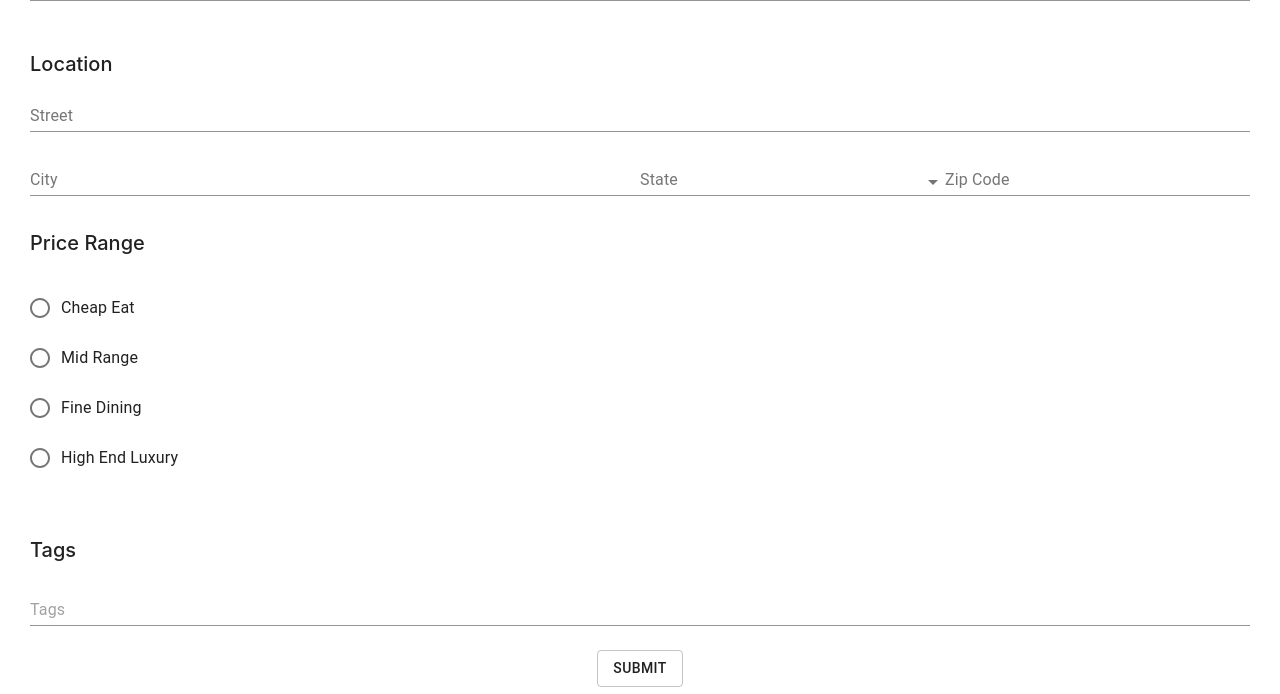
On Submit Validation Occurs
The width and height of the screenshot is (1280, 694).
(page scrolled)
Click the button with test id "submit-button" at (640, 668), box top-left (597, 650), bottom-right (683, 686)
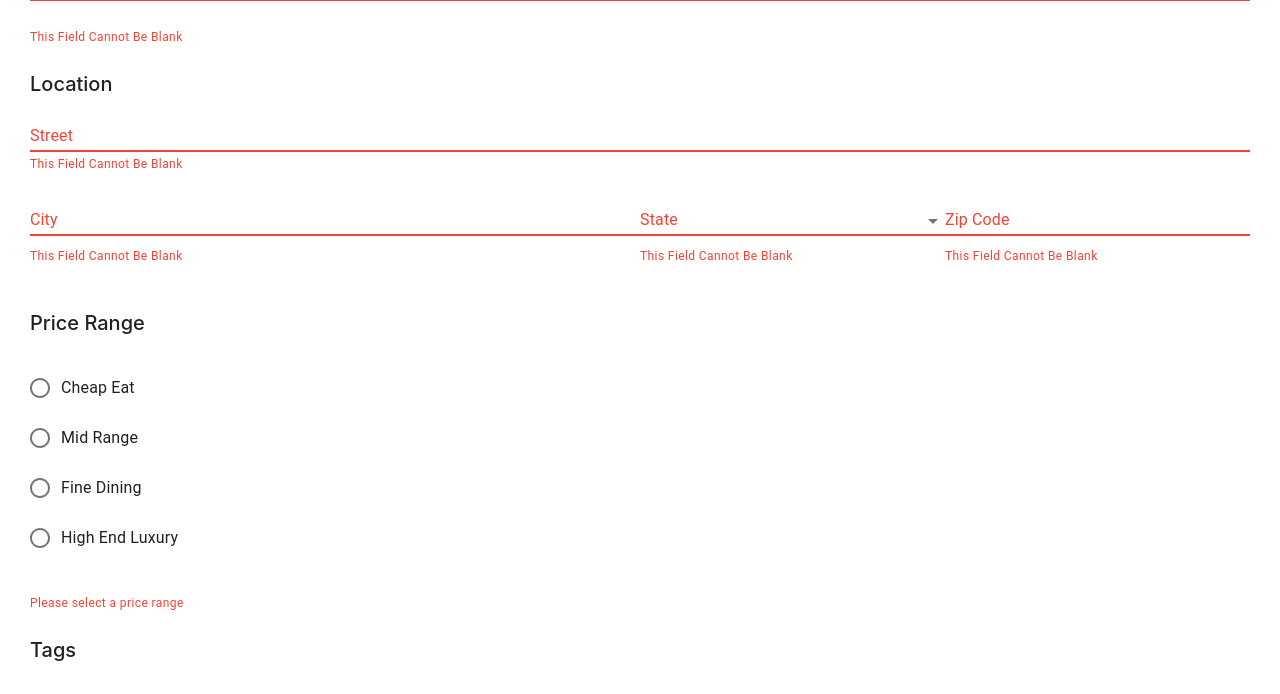
Expected: the text with test id "name-error-text" reads "This Field Cannot Be Blank", top-left (30, 30), bottom-right (183, 44)
Expected: the text with test id "street-error-text" reads "This Field Cannot Be Blank", top-left (30, 157), bottom-right (183, 171)
Expected: the text with test id "city-error-text" reads "This Field Cannot Be Blank", top-left (30, 249), bottom-right (183, 263)
Type "452" into the field with test id "zipCode-field" at (1098, 221), box top-left (945, 207), bottom-right (1250, 236)
(page scrolled)
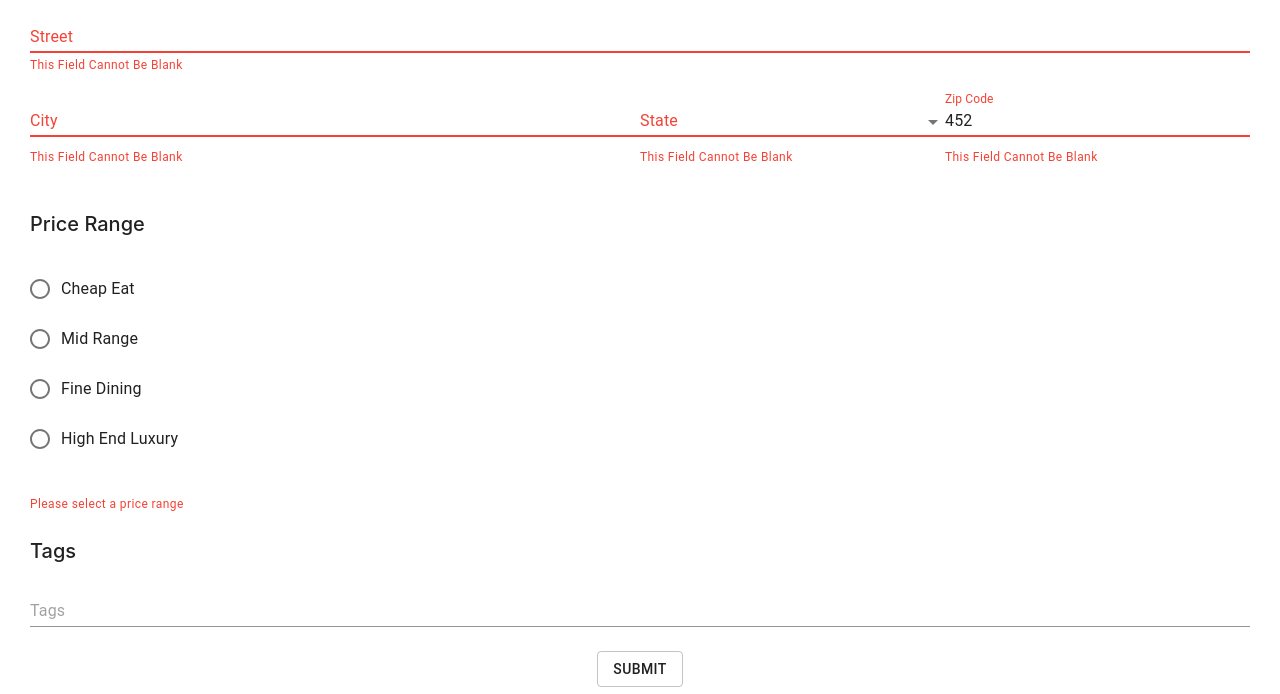
Click the button with test id "submit-button" at (640, 669), box top-left (597, 650), bottom-right (683, 687)
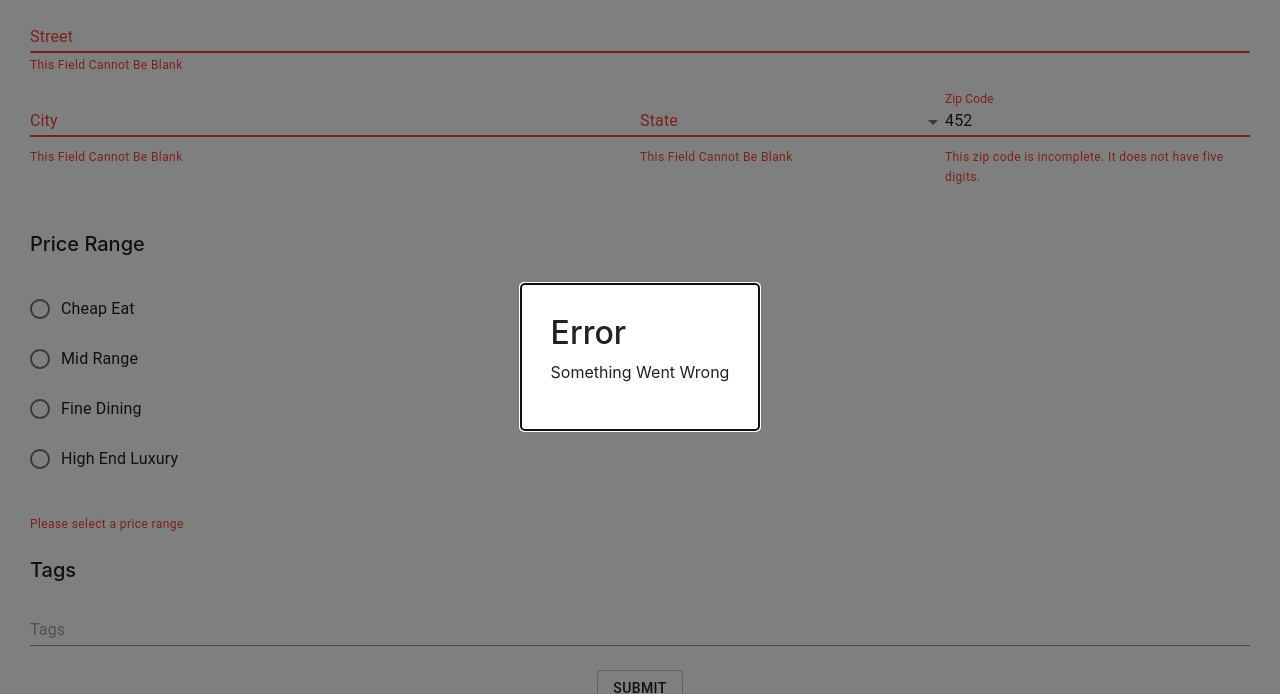
Expected: the text with test id "zipCode-error-text" reads "This zip code is incomplete. It does not have five digits.", top-left (945, 150), bottom-right (1223, 184)
